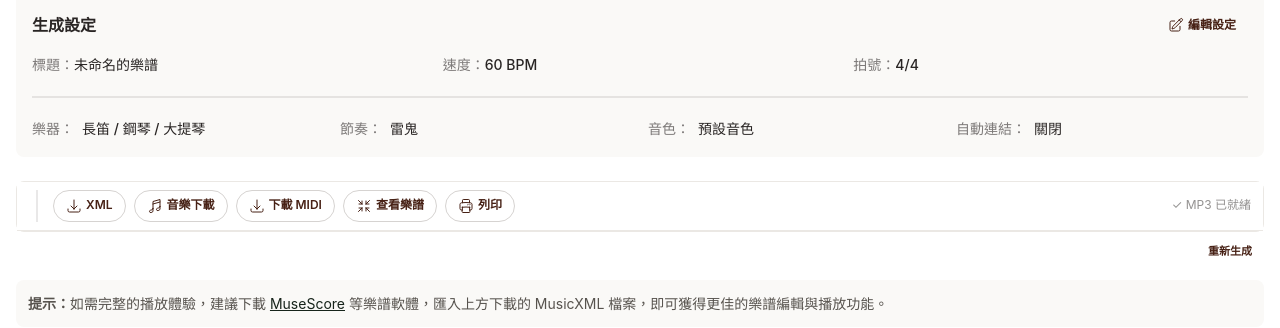
Test: music result MIDI download › a failed MIDI download does not take down the MP3
Click the button "下載 MIDI" at (285, 206), box [236,190,335,222]
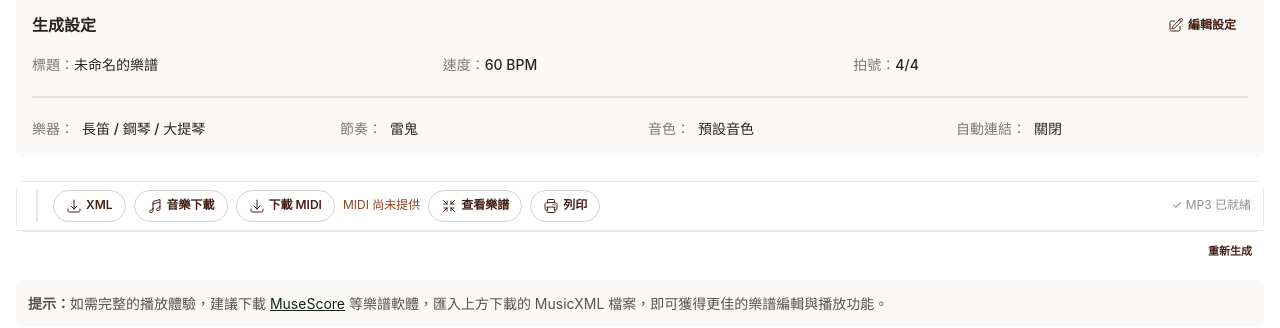
Check: the text "✓ MP3 已就緒" is shown, box [1172,195,1251,216]
Check: the message reads "MIDI 尚未提供", box [343,197,420,212]
